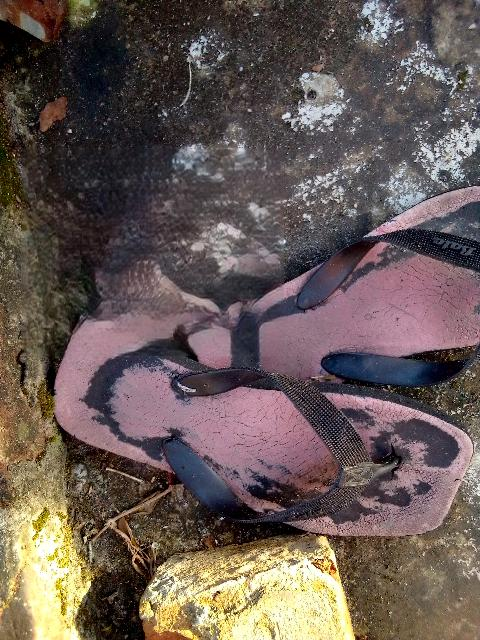sandal: (25, 291, 480, 587), (203, 156, 480, 422)
